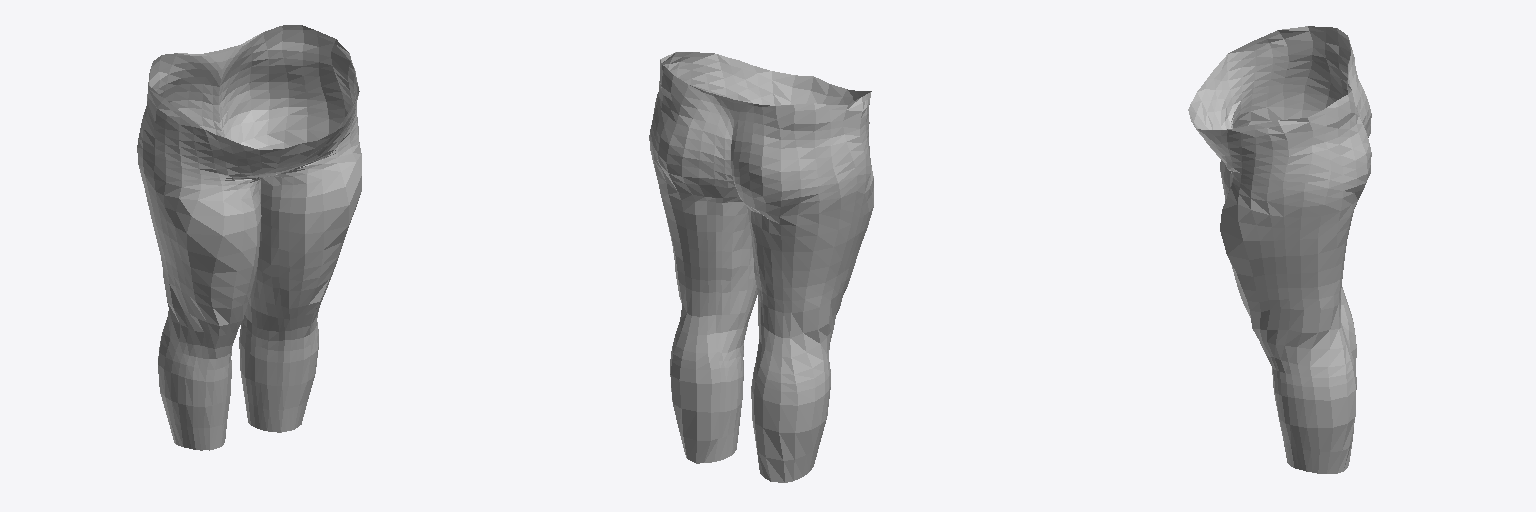
Rendered from bottomsmax.obj.
3 views of the same model, side by side, from view 1: azimuth 30°, elevation 25°; view 2: azimuth 150°, elevation 25°; view 3: azimuth 270°, elevation 25° (orthographic).
Visible parts, largest first — view 1: bottomsmax_Plane.004; view 2: bottomsmax_Plane.004; view 3: bottomsmax_Plane.004.
Part boxes in pixels (bbox=[...]): bottomsmax_Plane.004: bbox=[137, 25, 361, 450]; bottomsmax_Plane.004: bbox=[649, 52, 873, 482]; bottomsmax_Plane.004: bbox=[1188, 26, 1371, 473].
Bounding box in the file's own units: 0.4638 × 0.8407 × 0.3641.